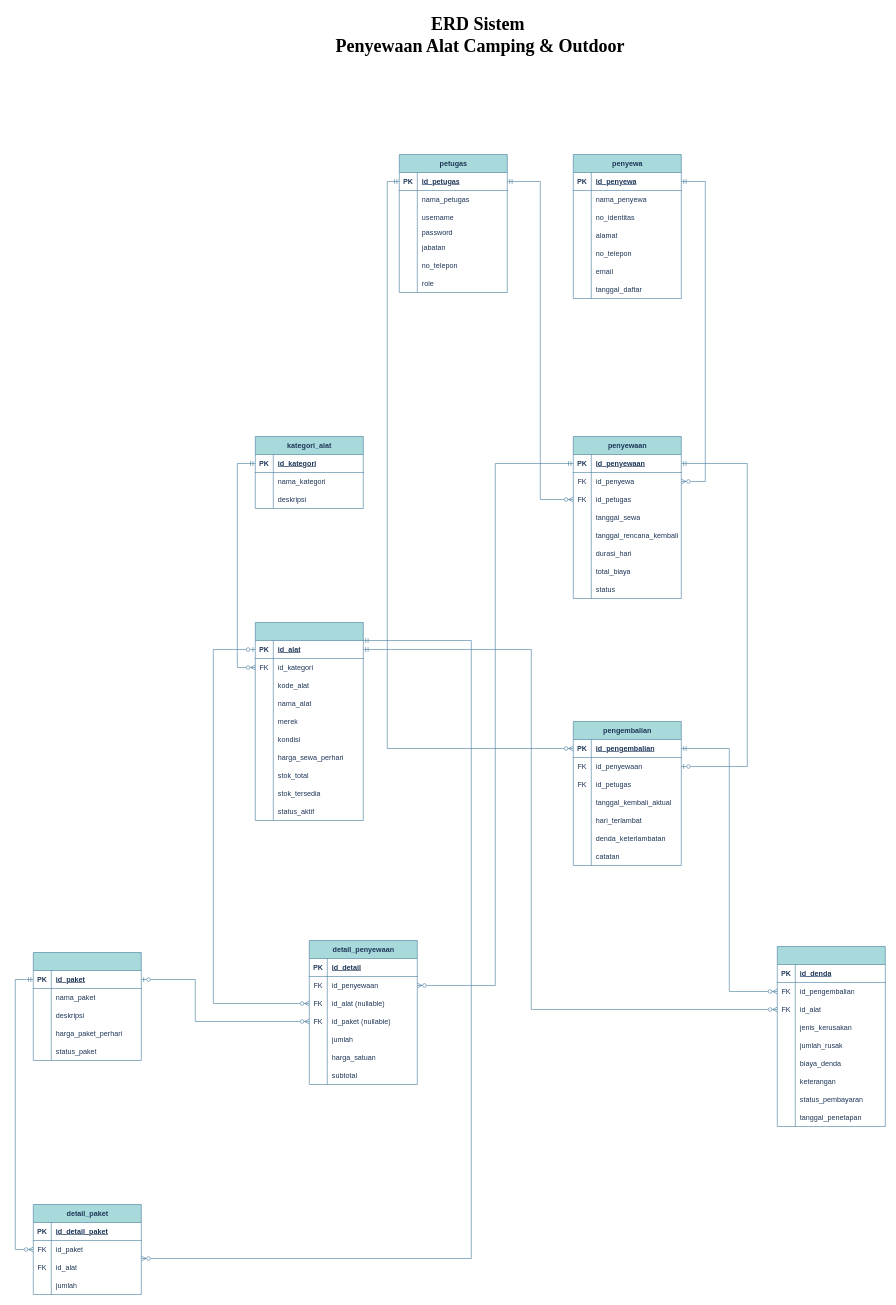
This 896x1305 diagram has some shape labels left out. Each missing label, with the box of its shape:
denda_kerusakan: (777, 946, 885, 1126)
paket_sewa: (33, 952, 141, 1060)
peralatan: (255, 622, 363, 820)
